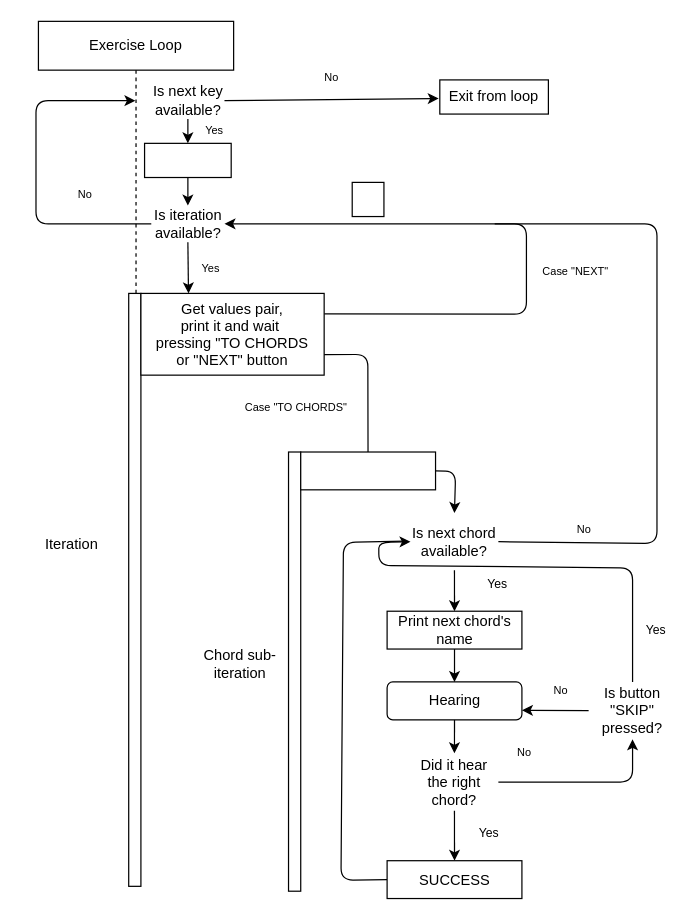
Some shapes in this 697 by 920 pixel diagram are drawn without their labels. Here are the shapes that lost their labels. From the top down, the centre of each, then its label:
the point at 187,160: Get next key
the point at 367,199: Iter++
the point at 368,470: Start chords processing loop
